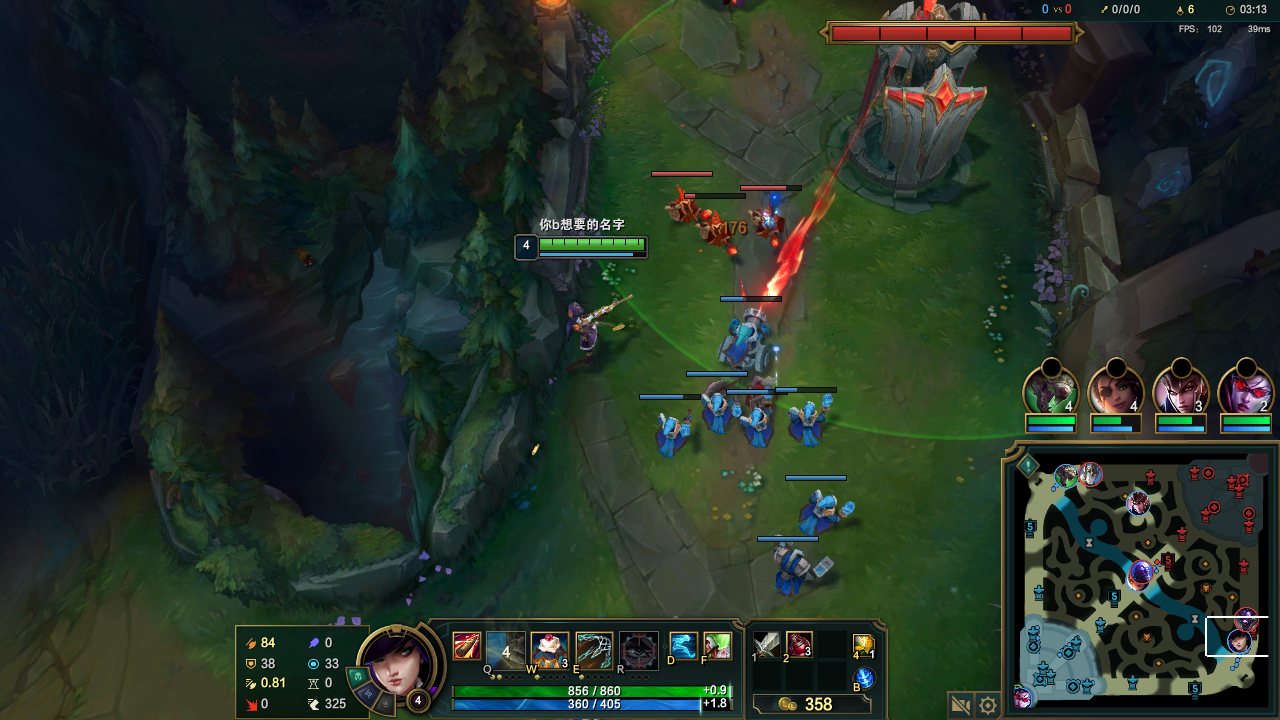DFFYT: (829, 26, 997, 202)
DFXB: (700, 211, 732, 251), (753, 204, 781, 234), (671, 188, 695, 215)
WFXB: (799, 484, 858, 539), (767, 542, 827, 594), (726, 315, 779, 371), (703, 392, 741, 433), (740, 403, 776, 446), (794, 396, 827, 441), (656, 414, 695, 450)
Yita: (1187, 673, 1203, 698)
